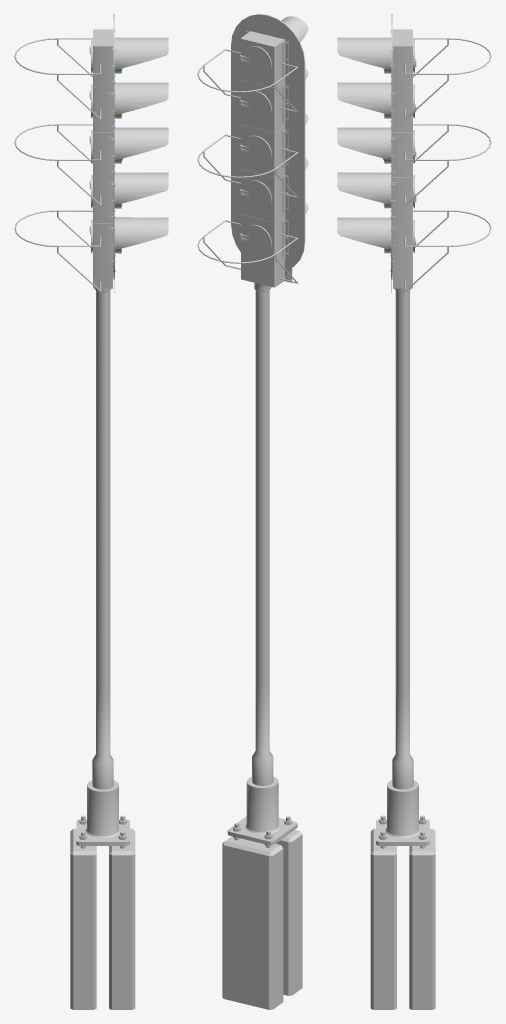
The model's file is PL5AspectYardCenter.fbx.
3 renders of one model, left to right at view 1: azimuth 90°, elevation 25°; view 2: azimuth 150°, elevation 25°; view 3: azimuth 270°, elevation 25°, orthographic.
Visible parts, largest first — view 1: PL5AspectYard; view 2: PL5AspectYard; view 3: PL5AspectYard.
Boxes of the visible parts, x1,y1,x2,y2 form: PL5AspectYard: (14, 14, 168, 1009); PL5AspectYard: (197, 14, 308, 1009); PL5AspectYard: (337, 14, 491, 1009).
Bounding box in the file's own units: 60 × 760 × 108.
